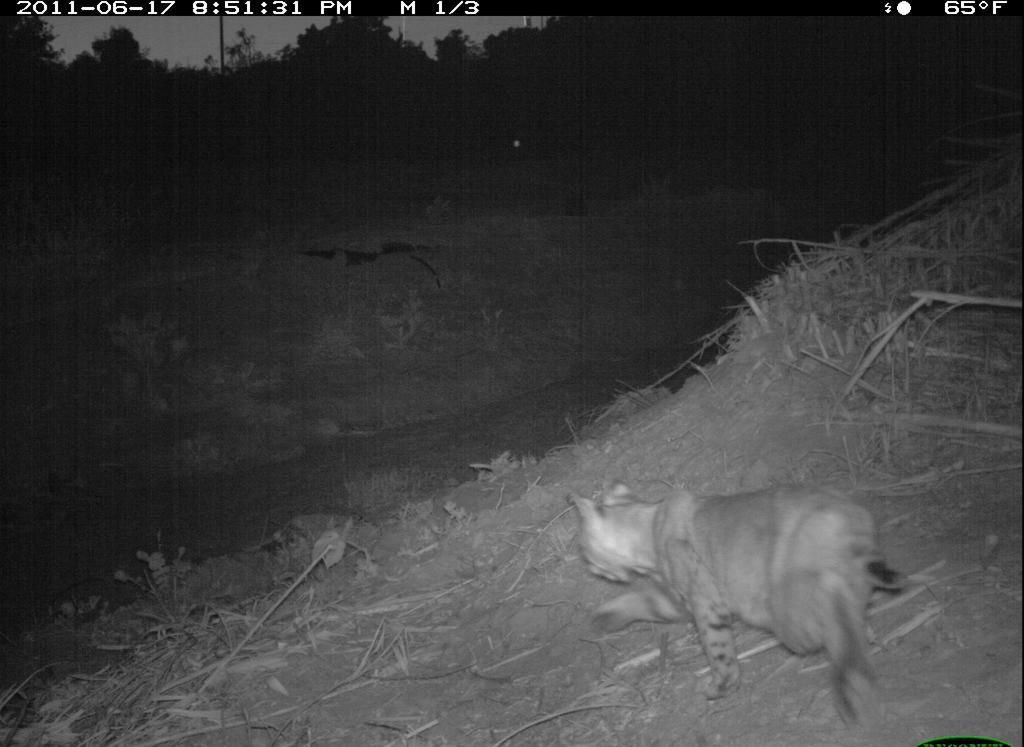bobcat: (553, 469, 921, 738)
